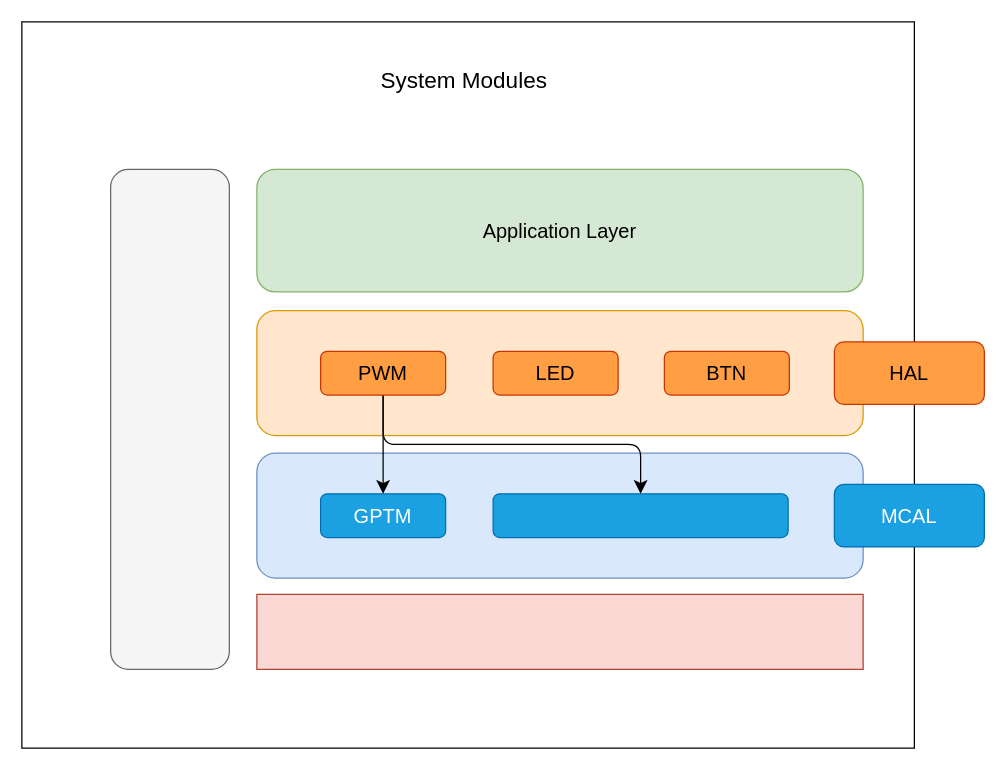
Some shapes in this 1006 by 770 pixel diagram are drawn without their labels. The shapes that lost their labels are listed below. From the top down, each one's centre as x and y in pixels, then its label:
At point 169,418: "Library".
At point 640,515: "GPIO".
At point 559,631: "Microcontroller".
